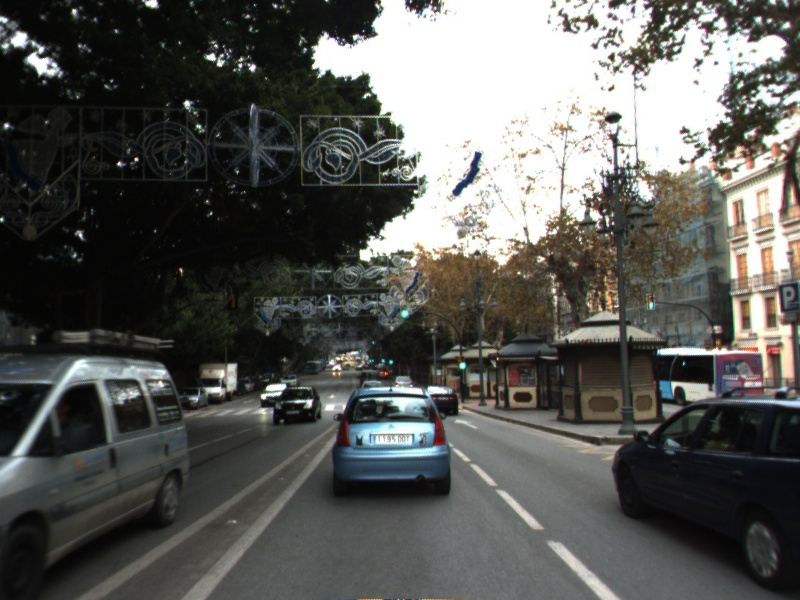STRAIGHT: (452, 416, 480, 431)
